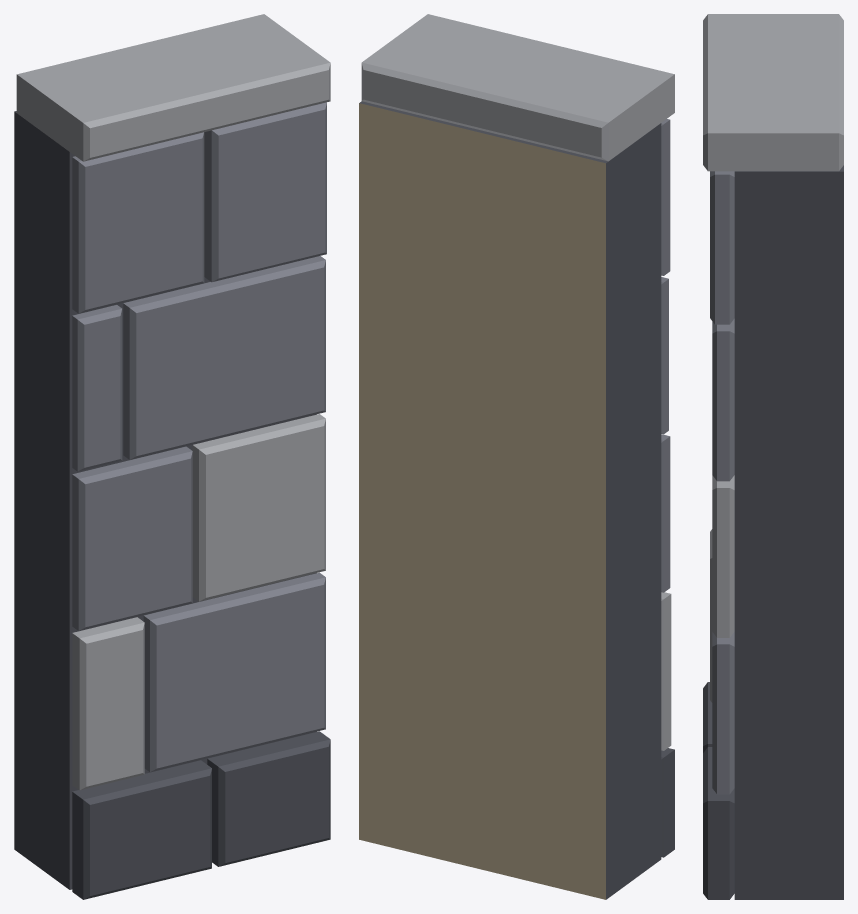
Rendered from WallStraight_03.glb.
The picture shows the model from 3 angles, left to right: view 1: azimuth 30°, elevation 25°; view 2: azimuth 150°, elevation 25°; view 3: azimuth 270°, elevation 25°; orthographic projection.
Parts seen in each view (by area): view 1: WallStraight_03; view 2: WallStraight_03; view 3: WallStraight_03.
Part boxes in pixels (x1=…): WallStraight_03: x1=14, y1=14, x2=330, y2=899; WallStraight_03: x1=359, y1=14, x2=674, y2=899; WallStraight_03: x1=703, y1=14, x2=843, y2=899.
Size of the model in its own units: 4 by 12 by 2.
